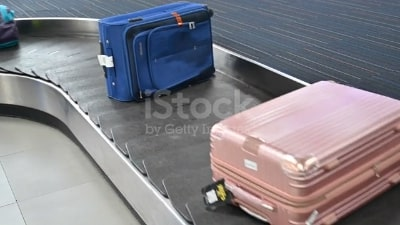baggage: (201, 79, 400, 225), (88, 2, 221, 104)
